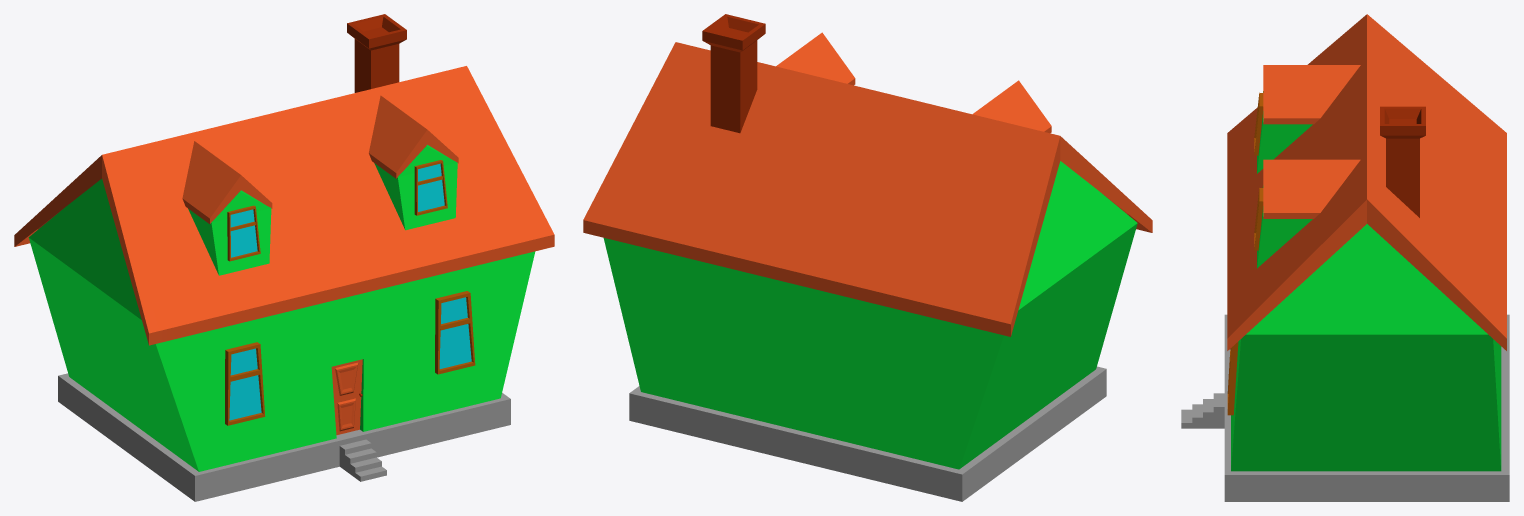
Rendered from Casa3.fbx.
3 renders of one model, left to right at view 1: azimuth 30°, elevation 25°; view 2: azimuth 150°, elevation 25°; view 3: azimuth 270°, elevation 25°, orthographic. The views are drawn at different scales.
Parts seen in each view (by area): view 1: Casa3; view 2: Casa3; view 3: Casa3.
Part boxes in pixels (x1,y1,x2,y2): Casa3: (14,14,554,501); Casa3: (583,14,1152,501); Casa3: (1181,14,1509,501).
Bounding box in the file's own units: 1351 × 1105 × 911.
